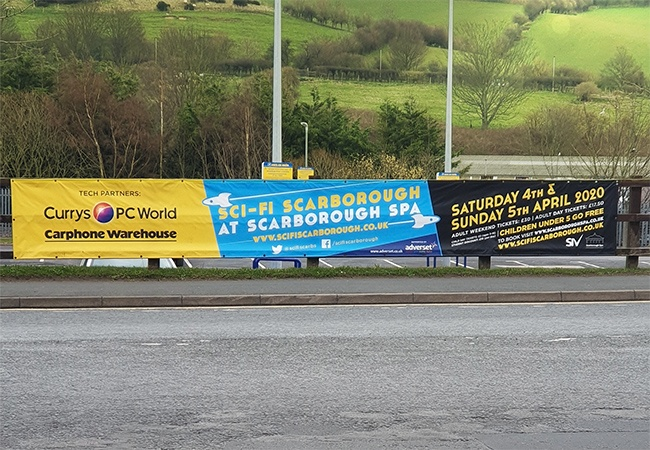vinyl banner: (4, 166, 624, 263)
